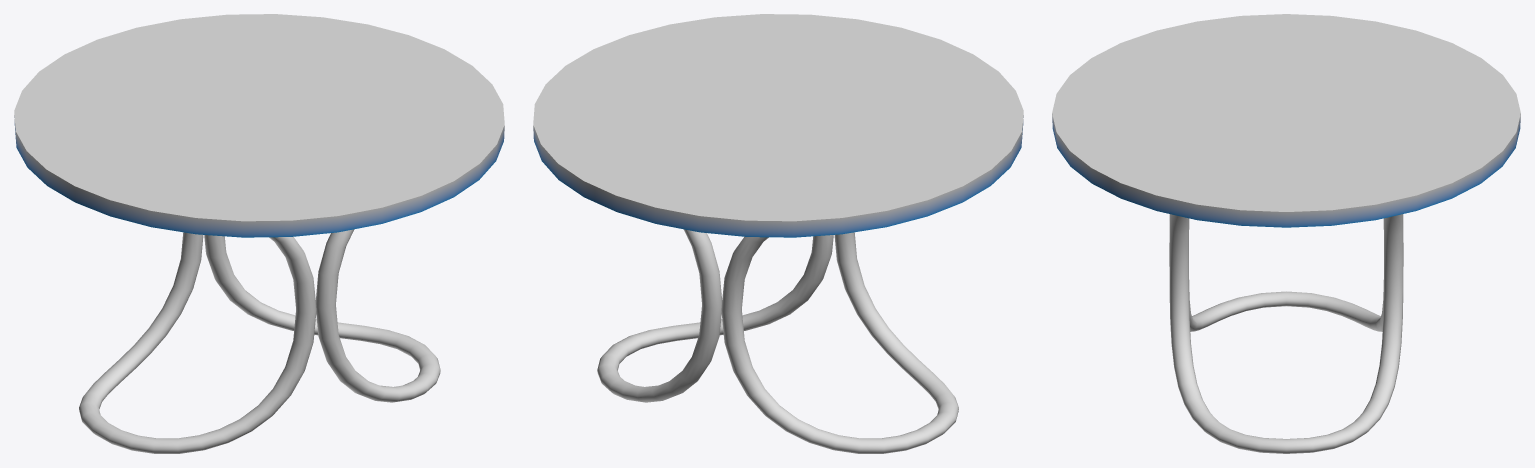
File: Stool.fbx
3 views of the same model, side by side, from view 1: azimuth 30°, elevation 25°; view 2: azimuth 150°, elevation 25°; view 3: azimuth 270°, elevation 25° (orthographic). The views are drawn at different scales.
Parts seen in each view (by area): view 1: Circle, BezierCircle, BezierCircle.001; view 2: Circle, BezierCircle, BezierCircle.001; view 3: Circle, BezierCircle.001, BezierCircle.
Boxes of the visible parts, x1,y1,x2,y2 form: Circle: (14,14,504,237); BezierCircle: (79,232,316,453); BezierCircle.001: (204,229,440,402); Circle: (533,14,1023,237); BezierCircle: (721,232,958,453); BezierCircle.001: (597,229,833,402); Circle: (1052,14,1520,227); BezierCircle.001: (1169,214,1403,453); BezierCircle: (1169,214,1403,331).
Size of the model in its own units: 192 by 120 by 192.
